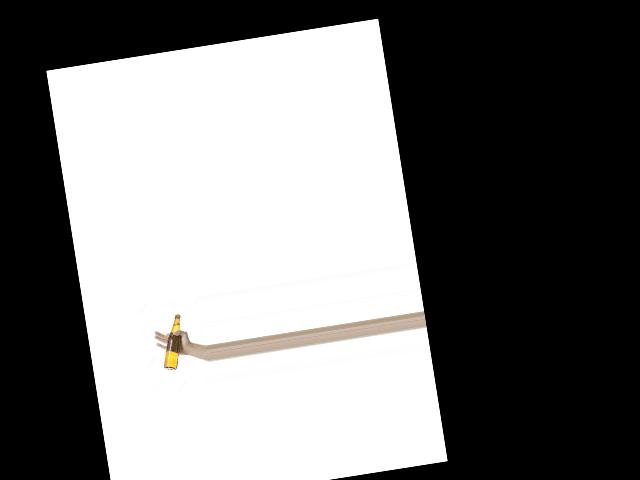beer: (157, 314, 188, 371)
